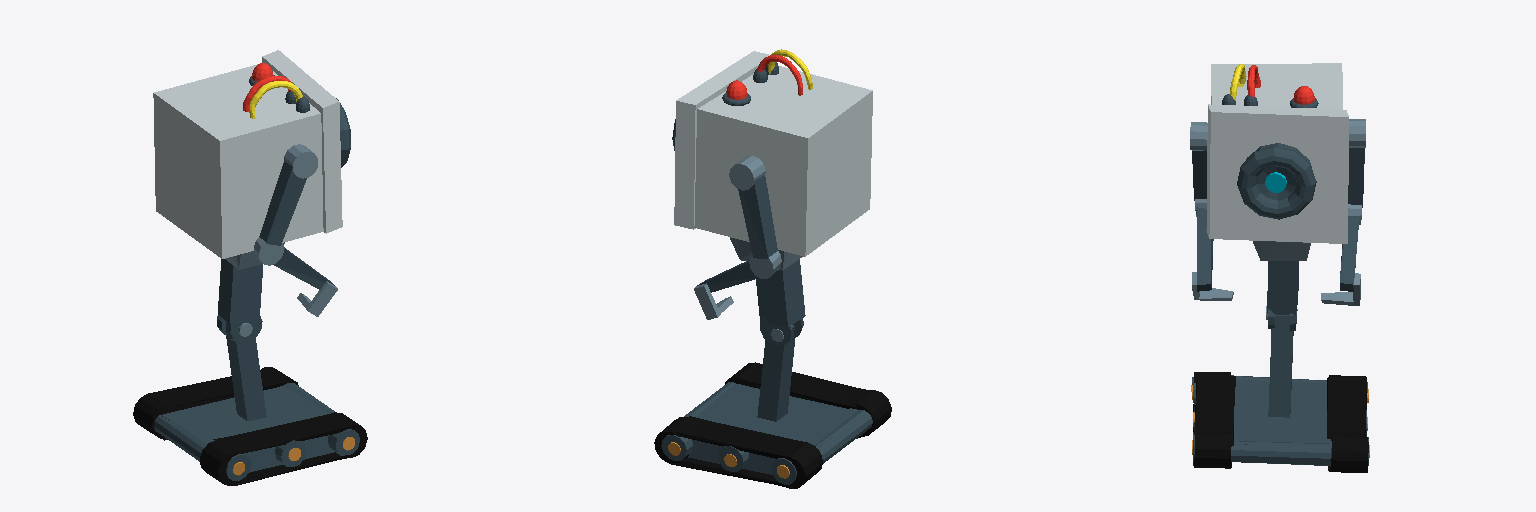
Rendered from butterrobot.obj.
3 views of the same model, side by side, from view 1: azimuth 30°, elevation 25°; view 2: azimuth 150°, elevation 25°; view 3: azimuth 270°, elevation 25° (orthographic).
Visible parts, largest first — view 1: group[number redacted], group[number redacted], group[number redacted], group[number redacted], group[number redacted], group[number redacted], group[number redacted], group[number redacted], group[number redacted], group[number redacted], group[number redacted], group[number redacted] (+6 smaller); view 2: group[number redacted], group[number redacted], group[number redacted], group[number redacted], group[number redacted], group[number redacted], group[number redacted], group[number redacted], group[number redacted], group[number redacted], group[number redacted], group[number redacted] (+5 smaller); view 3: group[number redacted], group[number redacted], group[number redacted], group[number redacted], group[number redacted], group[number redacted], group[number redacted], group[number redacted], group[number redacted], group[number redacted], group[number redacted], group[number redacted] (+5 smaller).
Part boxes in pixels (left/top/right/bottom): group[number redacted]: left=153, top=64, right=323, bottom=258; group[number redacted]: left=161, top=385, right=332, bottom=442; group[number redacted]: left=262, top=50, right=342, bottom=233; group[number redacted]: left=218, top=259, right=262, bottom=323; group[number redacted]: left=213, top=414, right=357, bottom=453; group[number redacted]: left=226, top=336, right=266, bottom=420; group[number redacted]: left=150, top=368, right=286, bottom=415; group[number redacted]: left=259, top=161, right=306, bottom=245; group[number redacted]: left=154, top=414, right=208, bottom=461; group[number redacted]: left=200, top=440, right=243, bottom=485; group[number redacted]: left=244, top=435, right=333, bottom=472; group[number redacted]: left=273, top=247, right=334, bottom=289; group[number redacted]: left=694, top=66, right=872, bottom=256; group[number redacted]: left=696, top=382, right=858, bottom=448; group[number redacted]: left=674, top=51, right=769, bottom=229; group[number redacted]: left=671, top=416, right=818, bottom=460; group[number redacted]: left=756, top=259, right=805, bottom=326; group[number redacted]: left=757, top=325, right=794, bottom=421; group[number redacted]: left=727, top=362, right=873, bottom=408; group[number redacted]: left=738, top=175, right=777, bottom=258; group[number redacted]: left=814, top=410, right=872, bottom=463; group[number redacted]: left=781, top=442, right=822, bottom=488; group[number redacted]: left=688, top=440, right=775, bottom=474; group[number redacted]: left=669, top=457, right=792, bottom=488; group[number redacted]: left=1206, top=104, right=1348, bottom=243; group[number redacted]: left=1234, top=379, right=1331, bottom=465; group[number redacted]: left=1211, top=63, right=1342, bottom=108; group[number redacted]: left=1237, top=146, right=1316, bottom=219; group[number redacted]: left=1327, top=377, right=1366, bottom=438; group[number redacted]: left=1194, top=374, right=1235, bottom=445; group[number redacted]: left=1268, top=314, right=1293, bottom=417; group[number redacted]: left=1231, top=441, right=1331, bottom=464; group[number redacted]: left=1267, top=261, right=1298, bottom=315; group[number redacted]: left=1331, top=437, right=1368, bottom=472; group[number redacted]: left=1194, top=432, right=1231, bottom=467; group[number redacted]: left=1196, top=207, right=1213, bottom=291.
Size of the model in its own units: 0.2571 by 0.5741 by 0.2475.